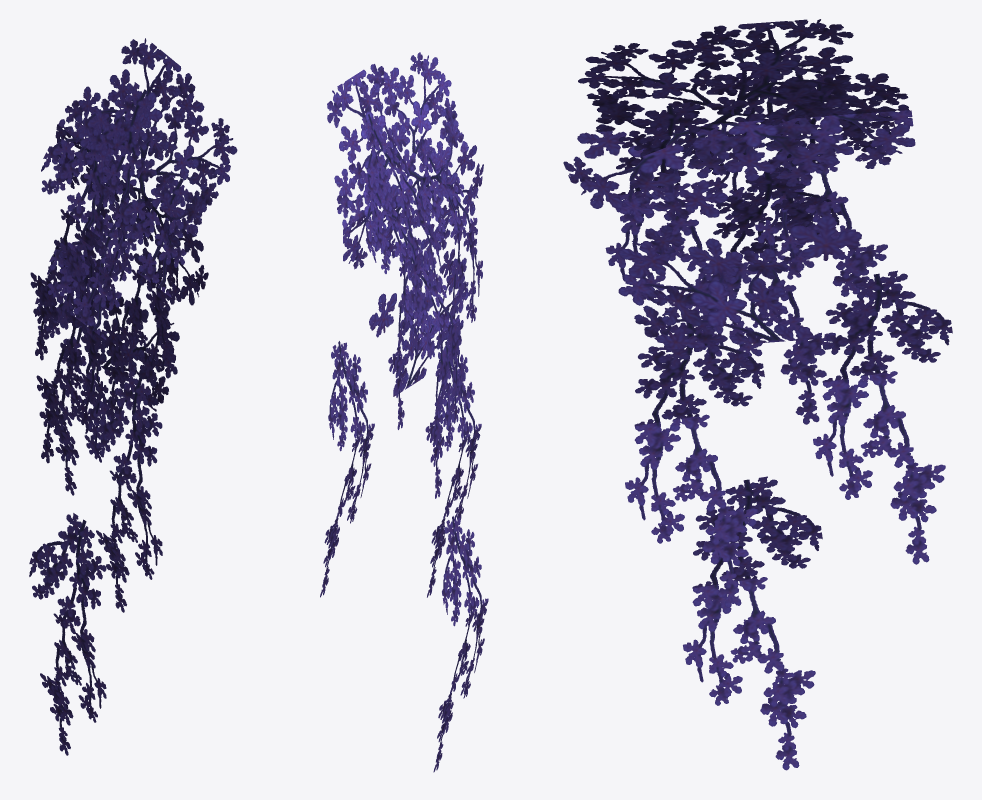
Rendered from ivy5.fbx.
3 renders of one model, left to right at view 1: azimuth 30°, elevation 25°; view 2: azimuth 150°, elevation 25°; view 3: azimuth 270°, elevation 25°, orthographic. The views are drawn at different scales.
Parts seen in each view (by area): view 1: IVY5; view 2: IVY5; view 3: IVY5.
Part boxes in pixels (x1=…): IVY5: x1=29, y1=38, x2=237, y2=755; IVY5: x1=320, y1=52, x2=488, y2=772; IVY5: x1=563, y1=19, x2=952, y2=770.
Bounding box in the file's own units: 29.26 × 154 × 75.91.
